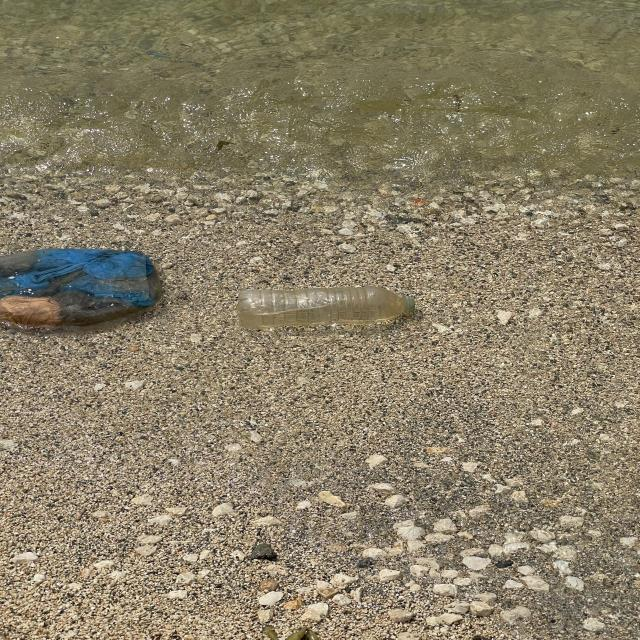plastic_waste: (243, 287, 421, 331)
